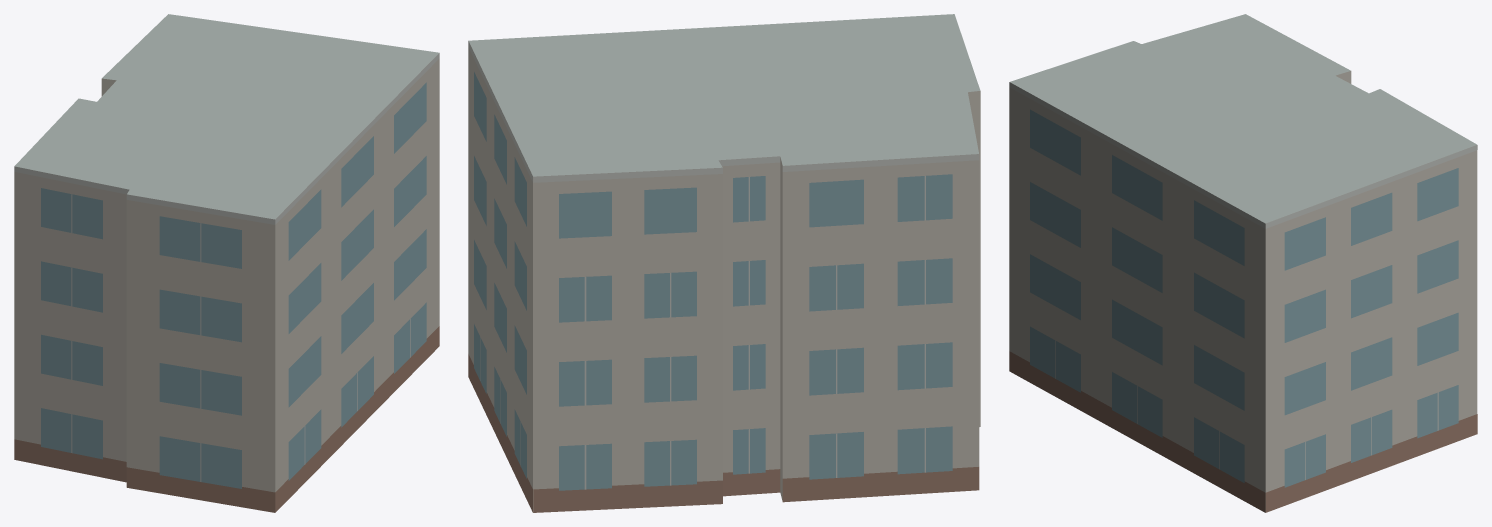
File: survey-upis-32674551.glb
The picture shows the model from 3 angles, left to right: view 1: azimuth 30°, elevation 25°; view 2: azimuth 150°, elevation 25°; view 3: azimuth 270°, elevation 25°; orthographic projection. The views are drawn at different scales.
Parts seen in each view (by area): view 1: survey-upis-32674551.tmp; view 2: survey-upis-32674551.tmp; view 3: survey-upis-32674551.tmp.
Part boxes in pixels (x1=…): survey-upis-32674551.tmp: x1=14, y1=14, x2=439, y2=512; survey-upis-32674551.tmp: x1=468, y1=14, x2=980, y2=512; survey-upis-32674551.tmp: x1=1009, y1=14, x2=1477, y2=512.
Size of the model in its own units: 20.51 by 13.2 by 19.36.
